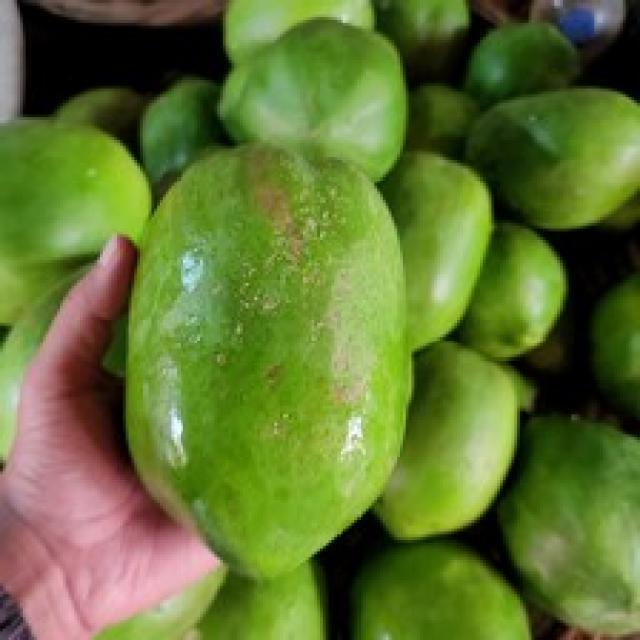Pepaya unrippen: (126, 143, 417, 589)
